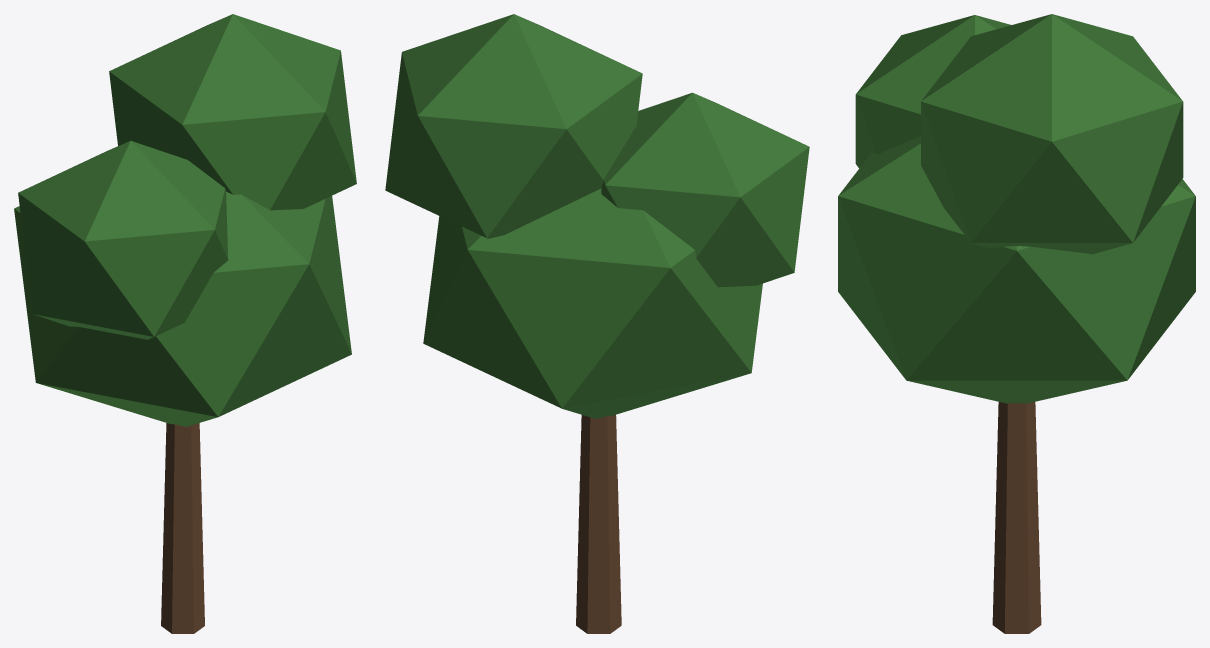
Rendered from PD_TreeSmall.fbx.
The picture shows the model from 3 angles, left to right: view 1: azimuth 30°, elevation 25°; view 2: azimuth 150°, elevation 25°; view 3: azimuth 270°, elevation 25°; orthographic projection. The views are drawn at different scales.
Parts seen in each view (by area): view 1: PD_TreeSmall_Mesh; view 2: PD_TreeSmall_Mesh; view 3: PD_TreeSmall_Mesh.
Boxes of the visible parts, bbox=[...] form: PD_TreeSmall_Mesh: bbox=[14, 14, 356, 633]; PD_TreeSmall_Mesh: bbox=[385, 14, 809, 633]; PD_TreeSmall_Mesh: bbox=[838, 14, 1195, 633].
Bounding box in the file's own units: 2.88 × 4.68 × 2.35.
